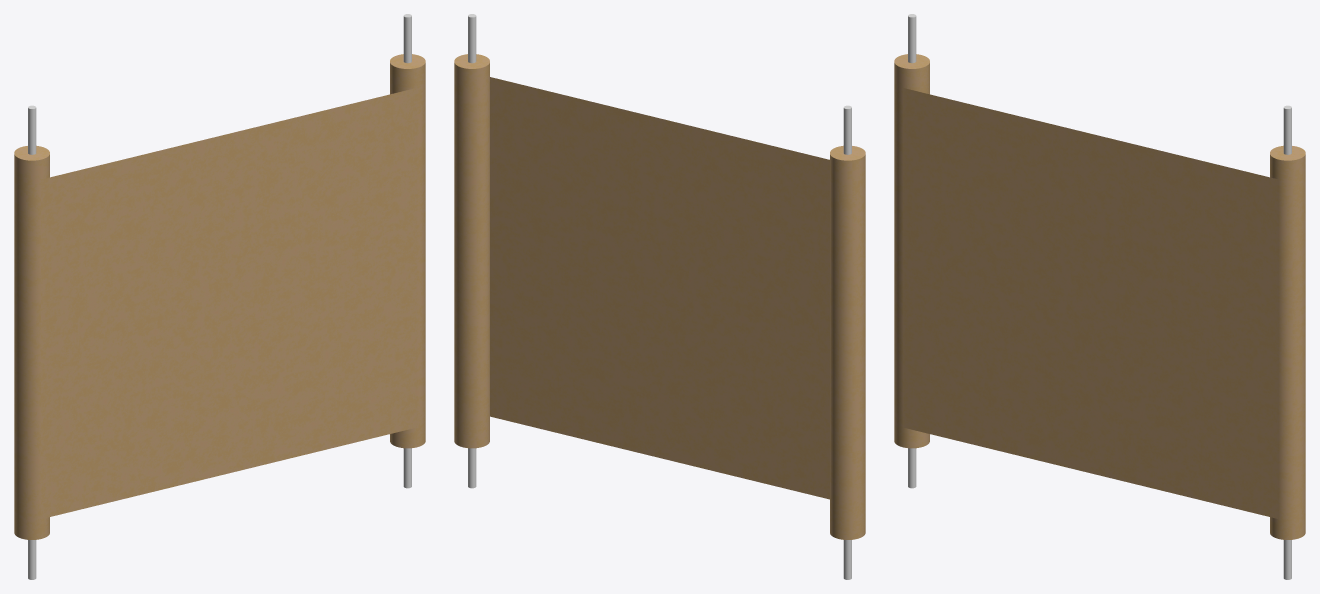
The model's file is scroll.fbx.
3 views of the same model, side by side, from view 1: azimuth 30°, elevation 25°; view 2: azimuth 150°, elevation 25°; view 3: azimuth 330°, elevation 25° (orthographic).
Parts seen in each view (by area): view 1: Plane.001; view 2: Plane.001; view 3: Plane.001.
Part boxes in pixels (x1,y1,x2,y2): Plane.001: [14, 14, 425, 579]; Plane.001: [454, 14, 865, 579]; Plane.001: [894, 14, 1305, 579].
Size of the model in its own units: 466 by 515 by 35.59.
